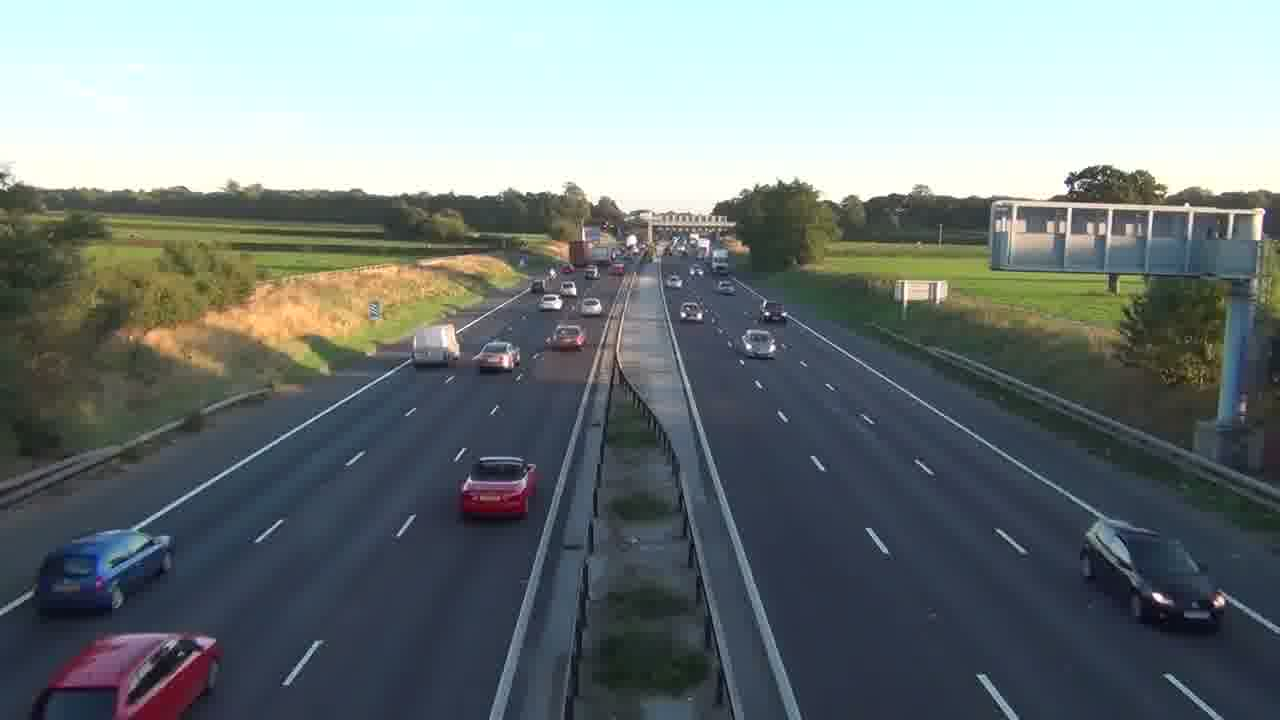car: (458, 455, 540, 520), (475, 340, 521, 373), (539, 294, 561, 310)
truck: (1079, 514, 1227, 632), (30, 629, 224, 718), (35, 526, 176, 619), (412, 323, 460, 367)
